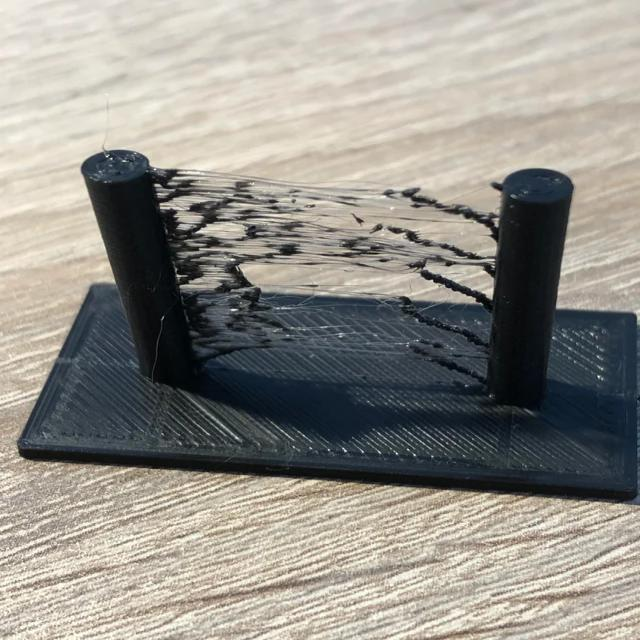Stringing: (148, 174, 504, 392)
